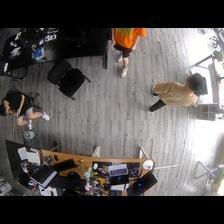normal: (145, 74, 205, 112), (110, 26, 147, 78)
